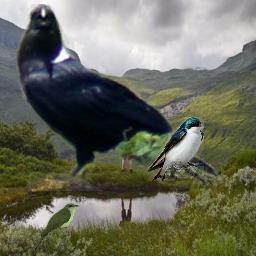Crow: (14, 4, 222, 191)
Cuckoo: (30, 203, 80, 255)
Swallow: (147, 117, 204, 181)
